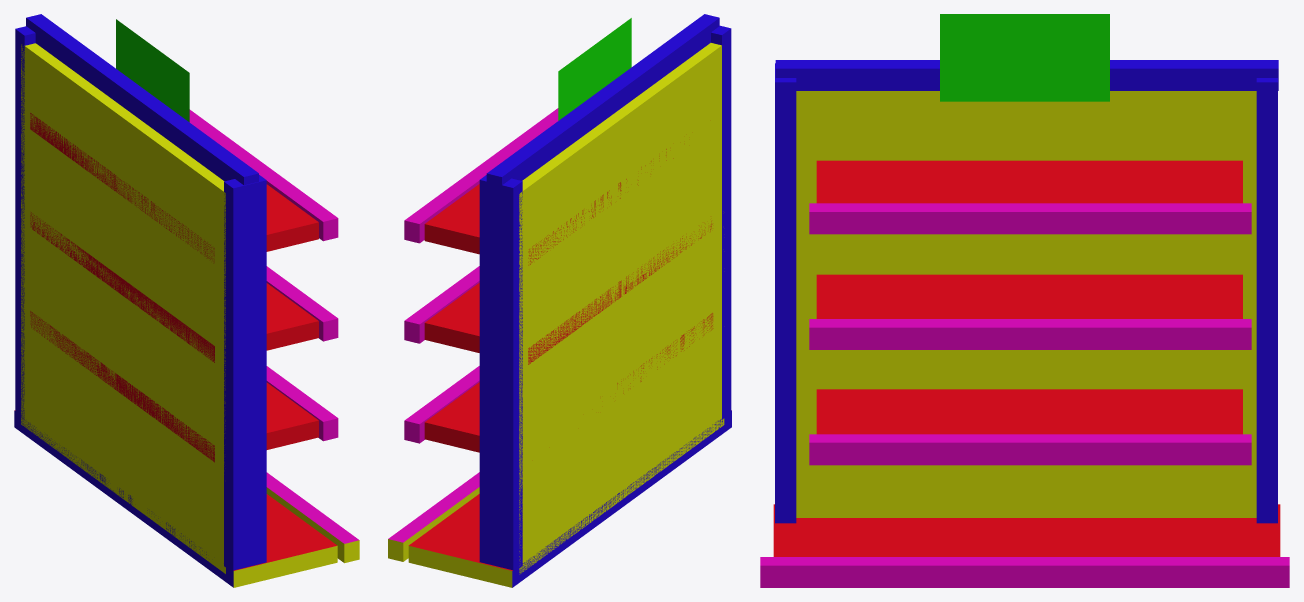
File: AditiShelf.fbx
The picture shows the model from 3 angles, left to right: view 1: azimuth 30°, elevation 25°; view 2: azimuth 150°, elevation 25°; view 3: azimuth 270°, elevation 25°; orthographic projection. The views are drawn at different scales.
Parts seen in each view (by area): view 1: ShelfAditi; view 2: ShelfAditi; view 3: ShelfAditi.
Part boxes in pixels (x1,y1,x2,y2): ShelfAditi: (14,14,359,587); ShelfAditi: (388,14,731,587); ShelfAditi: (760,14,1289,587).
Size of the model in its own units: 336 by 1215 by 1108.
